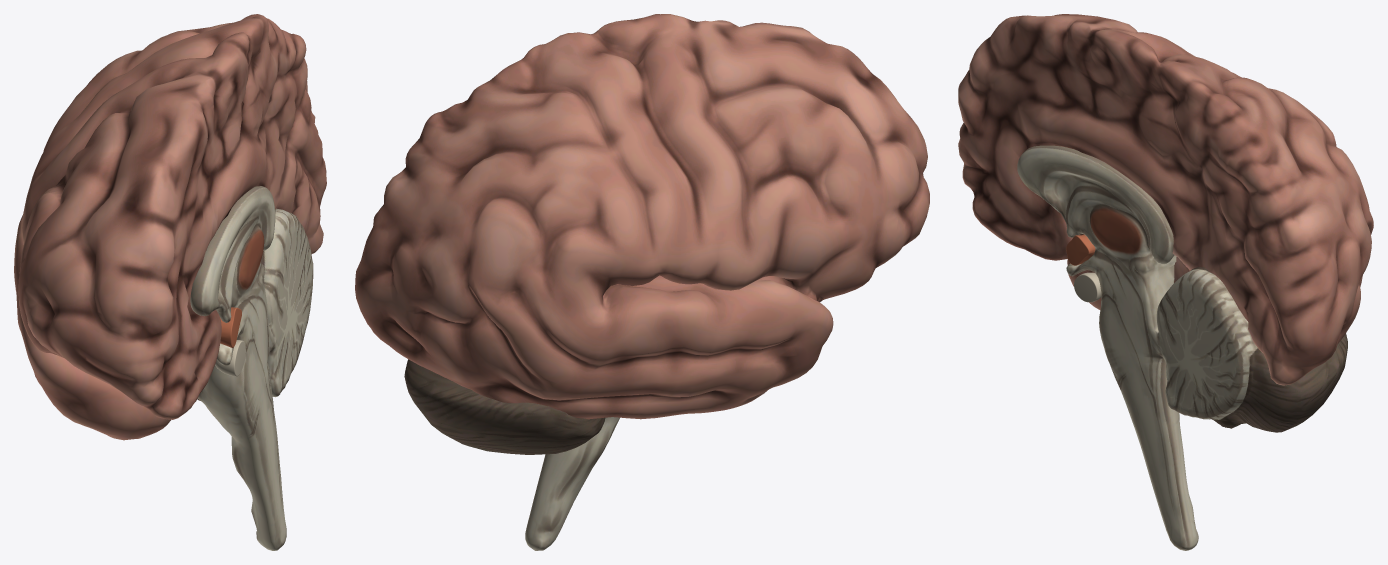
File: human brain.fbx
The picture shows the model from 3 angles, left to right: view 1: azimuth 30°, elevation 25°; view 2: azimuth 150°, elevation 25°; view 3: azimuth 270°, elevation 25°; orthographic projection. The views are drawn at different scales.
Visible parts, largest first — view 1: node_id30; view 2: node_id30; view 3: node_id30.
Boxes of the visible parts, box(x1,y1,x2,y2) form: node_id30: box(14, 14, 326, 550); node_id30: box(355, 14, 929, 550); node_id30: box(958, 14, 1373, 550).
Bounding box in the file's own units: 0.2989 × 0.3637 × 0.2859.
1 material, 1 textured.
